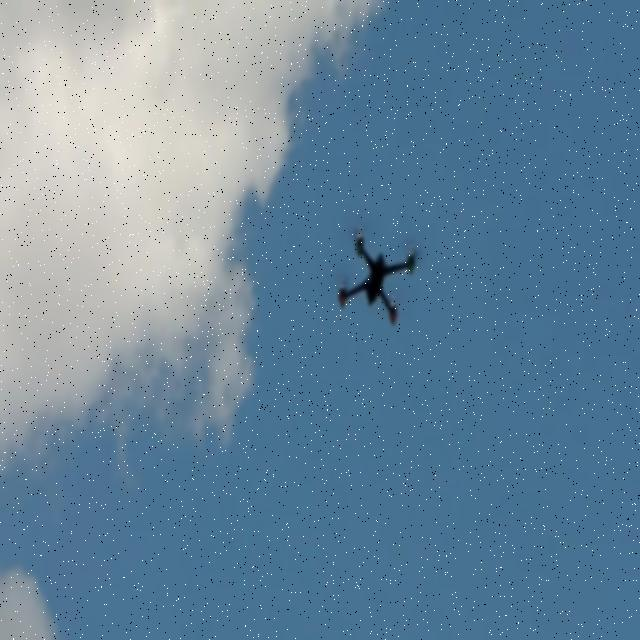UAV: (338, 223, 418, 328)
